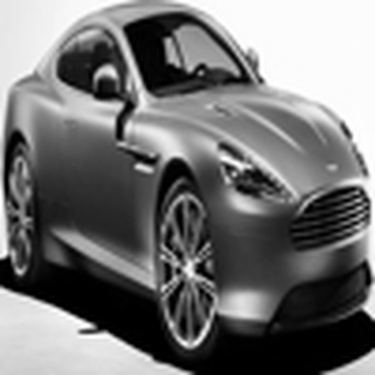car: (5, 1, 372, 366)
